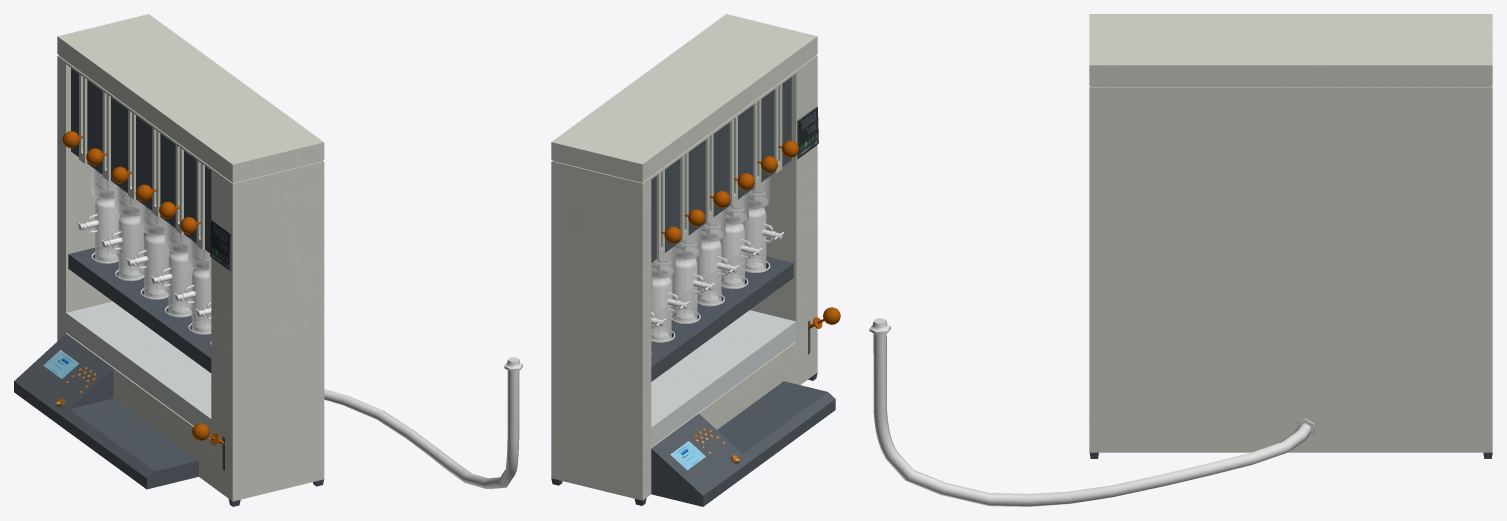
Rendered from SM_脂肪测定仪.FBX.
3 views of the same model, side by side, from view 1: azimuth 30°, elevation 25°; view 2: azimuth 150°, elevation 25°; view 3: azimuth 270°, elevation 25° (orthographic). The views are drawn at different scales.
Visible parts, largest first — view 1: SM_脂肪测定仪02, SM_脂肪测定仪01, SM_水管; view 2: SM_脂肪测定仪02, SM_脂肪测定仪01, SM_脂肪测定仪拉手01; view 3: SM_脂肪测定仪02, SM_水管.
Boxes of the visible parts, x1,y1,x2,y2 form: SM_脂肪测定仪02: (14, 14, 324, 506); SM_脂肪测定仪01: (62, 68, 211, 372); SM_水管: (324, 357, 522, 488); SM_脂肪测定仪02: (551, 14, 835, 506); SM_脂肪测定仪01: (651, 77, 793, 381); SM_脂肪测定仪拉手01: (808, 307, 840, 328); SM_脂肪测定仪02: (1089, 14, 1492, 458); SM_水管: (869, 318, 1314, 506).
Size of the model in its own units: 0.545 by 1.03 by 0.715.
